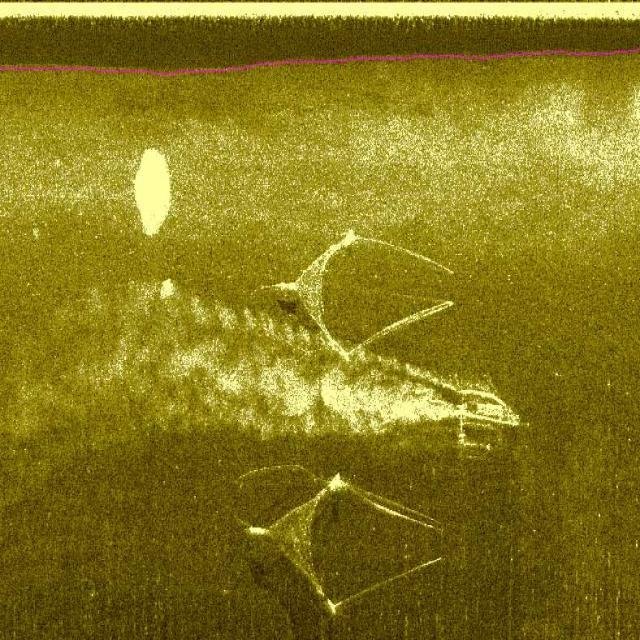other: (228, 464, 452, 624), (258, 216, 465, 369)
